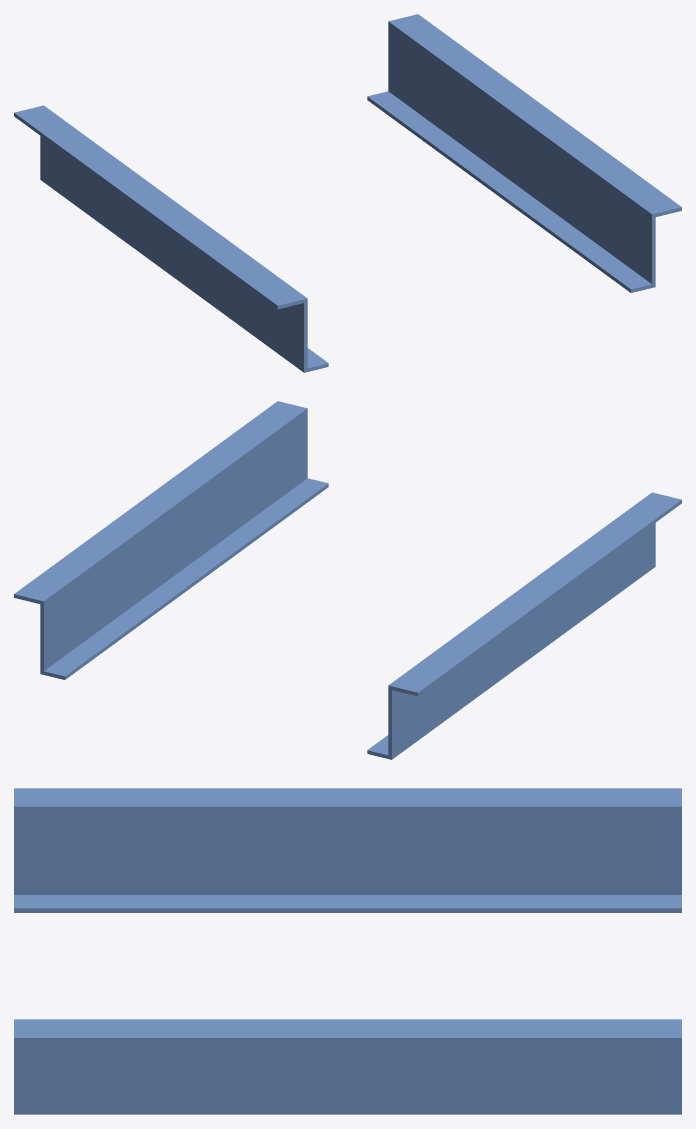
Rendered from LaneRail.fbx.
3 views of the same model, one above another, from view 1: azimuth 30°, elevation 25°; view 2: azimuth 150°, elevation 25°; view 3: azimuth 270°, elevation 25° (orthographic). The views are drawn at different scales.
Parts seen in each view (by area): view 1: LR_Web_R, LR_Web_L, LR_Ledge_L, LR_Ledge_R, LR_Track_R; view 2: LR_Web_R, LR_Web_L, LR_Ledge_L, LR_Ledge_R, LR_Track_R; view 3: LR_Web_L, LR_Web_R, LR_Ledge_R, LR_Track_L, LR_Ledge_L.
Boxes of the visible parts, x1,y1,x2,y2 form: LR_Web_R: (388,21,655,287); LR_Web_L: (40,105,307,372); LR_Ledge_L: (14,106,305,309); LR_Ledge_R: (390,14,681,217); LR_Track_R: (367,91,653,292); LR_Web_R: (40,408,307,674); LR_Web_L: (388,492,655,759); LR_Ledge_L: (390,493,681,696); LR_Ledge_R: (14,401,305,604); LR_Track_R: (42,478,328,679); LR_Web_L: (14,804,681,894); LR_Web_R: (14,1019,681,1114); LR_Ledge_R: (14,1020,681,1042); LR_Track_L: (14,895,681,912); LR_Ledge_L: (14,788,681,805).
Bounding box in the file's own units: 1.15 × 0.2 × 1.3.
